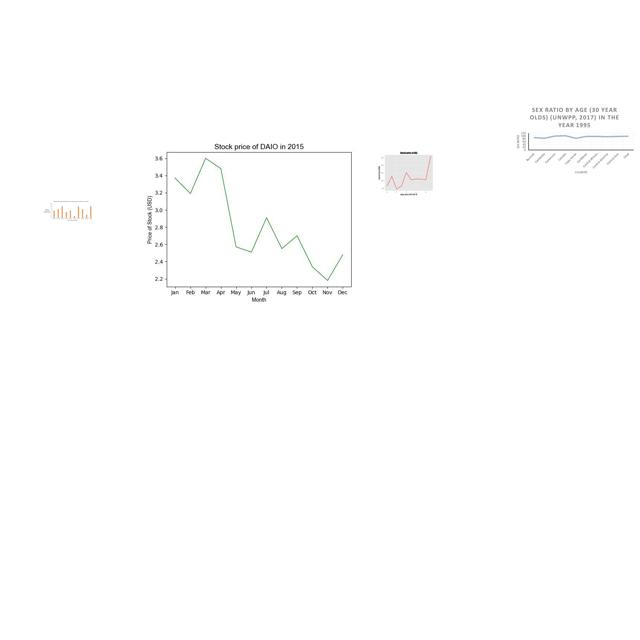Graph: (137, 129, 375, 308), (514, 105, 635, 175), (377, 149, 439, 196), (42, 200, 93, 222)
